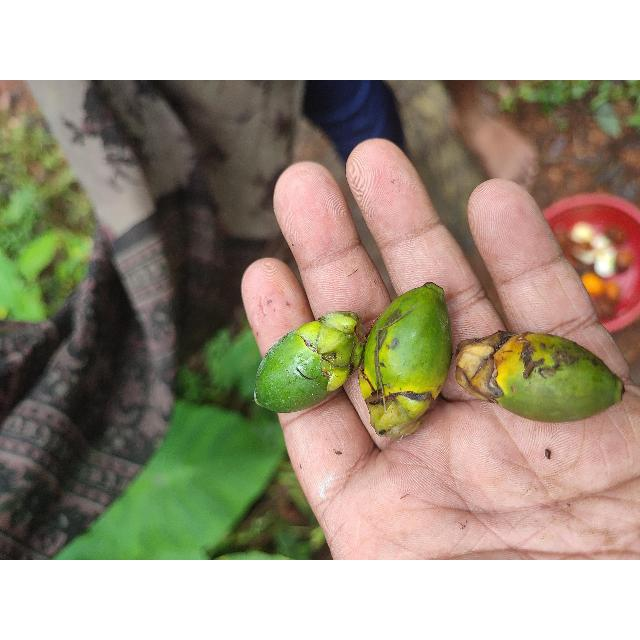damaged: (360, 284, 452, 448), (462, 332, 625, 424), (253, 311, 366, 414)
